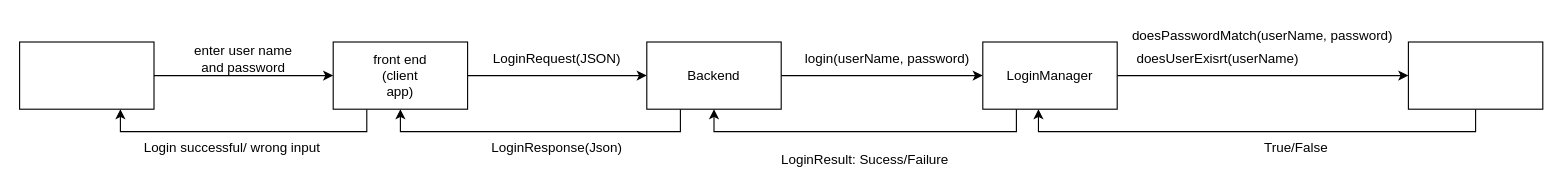
This 1562x195 diagram has some shape labels left out. Here are the shapes that lost their labels. From the top down, the centre of each, then its label:
[86,75]: user
[1475,75]: Database
